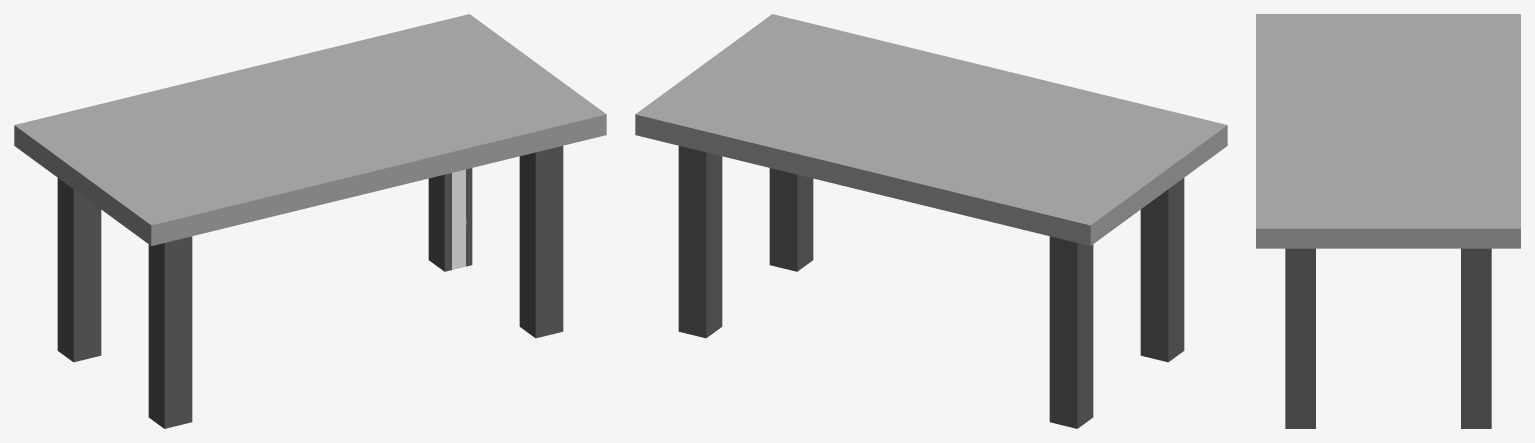
File: HubDesk.glb
3 renders of one model, left to right at view 1: azimuth 30°, elevation 25°; view 2: azimuth 150°, elevation 25°; view 3: azimuth 270°, elevation 25°, orthographic. The views are drawn at different scales.
Parts seen in each view (by area): view 1: Cube; view 2: Cube; view 3: Cube.
Boxes of the visible parts, x1=… form: Cube: x1=14, y1=14, x2=606, y2=428; Cube: x1=635, y1=14, x2=1227, y2=428; Cube: x1=1256, y1=14, x2=1520, y2=428.
Bounding box in the file's own units: 2.3 × 1.07 × 1.2.
1 material, 1 textured.
